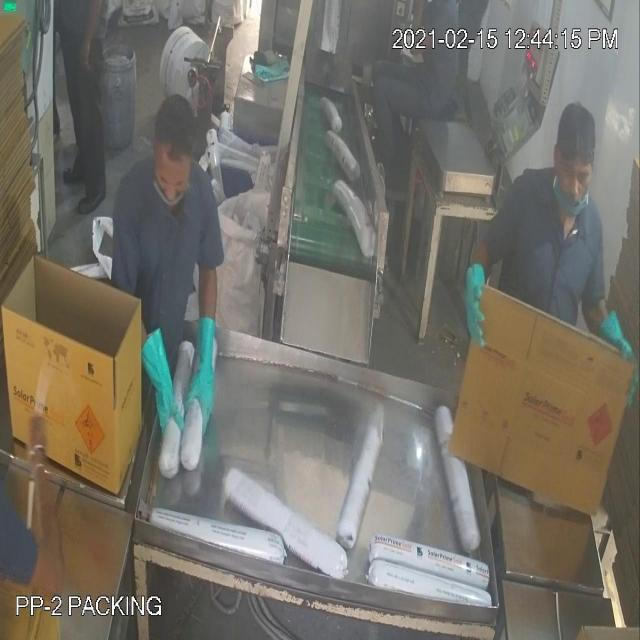Gloves: (27, 50, 472, 488)
